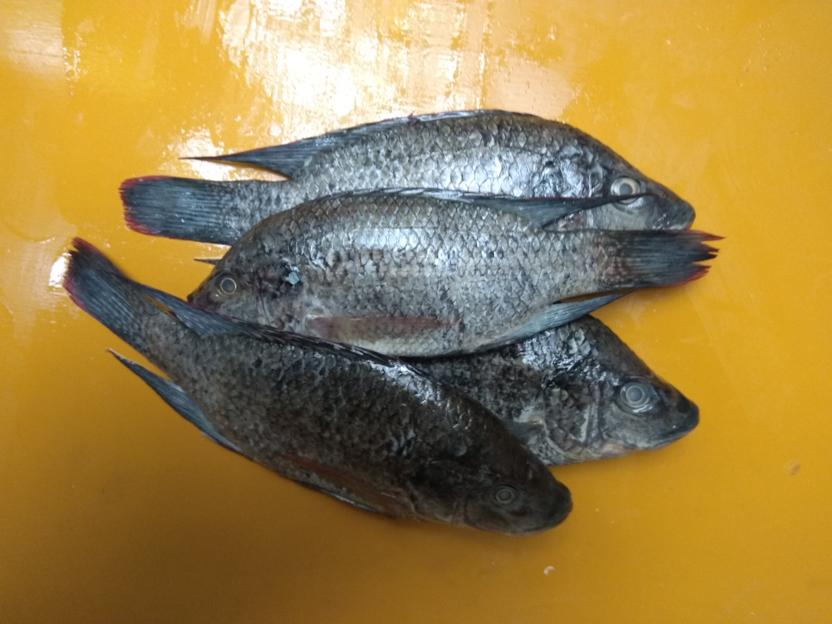Fish head: (543, 323, 701, 466), (406, 441, 575, 536), (186, 225, 308, 332), (553, 149, 698, 229)
Fish tail: (60, 235, 161, 352), (119, 175, 244, 246), (594, 227, 728, 292)
